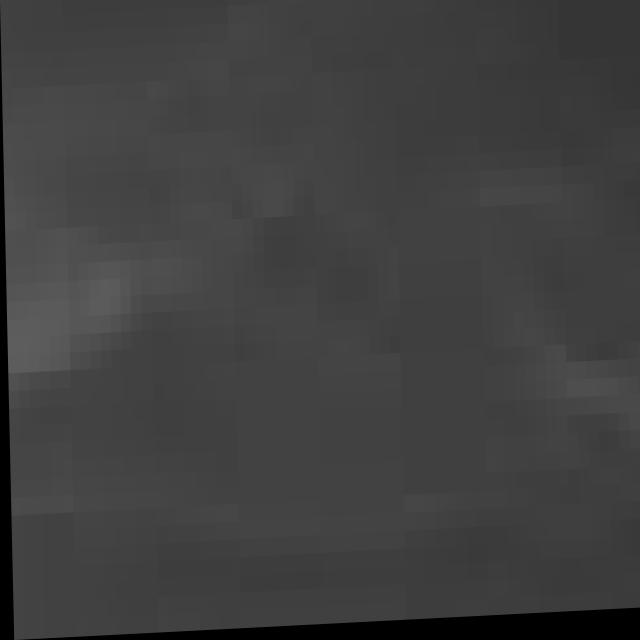fracture: (5, 0, 629, 640)
